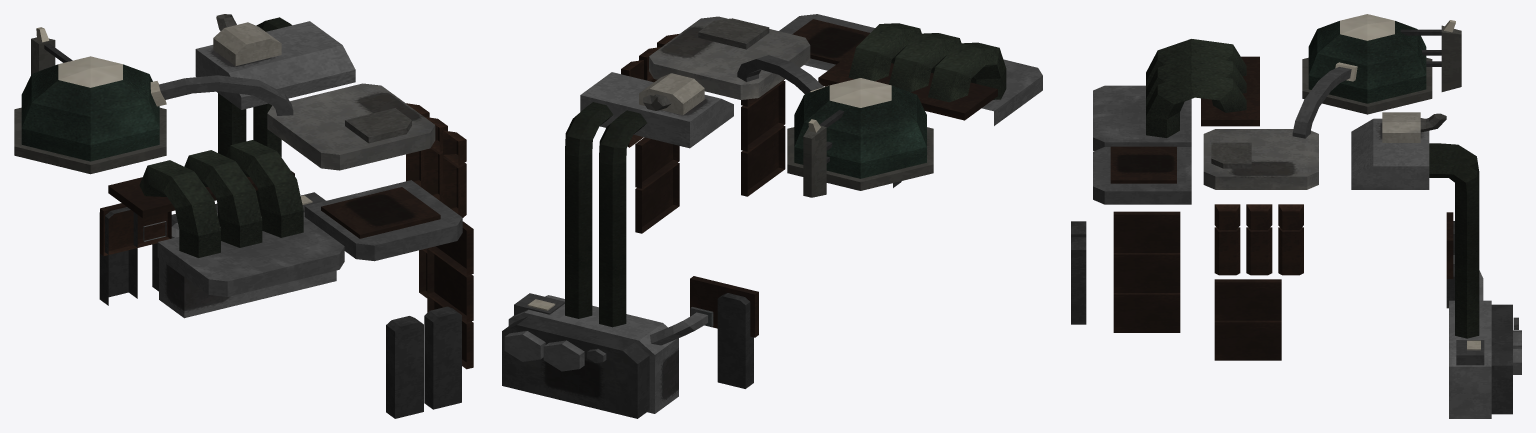
File: SideLabAccessories.obj
3 views of the same model, side by side, from view 1: azimuth 30°, elevation 25°; view 2: azimuth 150°, elevation 25°; view 3: azimuth 270°, elevation 25° (orthographic). The views are drawn at different scales.
Visible parts, largest first — view 1: Side_Lab_Accessories_SideLabAccessories; view 2: Side_Lab_Accessories_SideLabAccessories; view 3: Side_Lab_Accessories_SideLabAccessories.
Part boxes in pixels (x1,y1,x2,y2): Side_Lab_Accessories_SideLabAccessories: (14,14,473,418); Side_Lab_Accessories_SideLabAccessories: (502,14,1042,418); Side_Lab_Accessories_SideLabAccessories: (1071,14,1521,418).
Size of the model in its own units: 12.1 by 10.1 by 14.96.
Materials: 1 (1 with a texture image).
